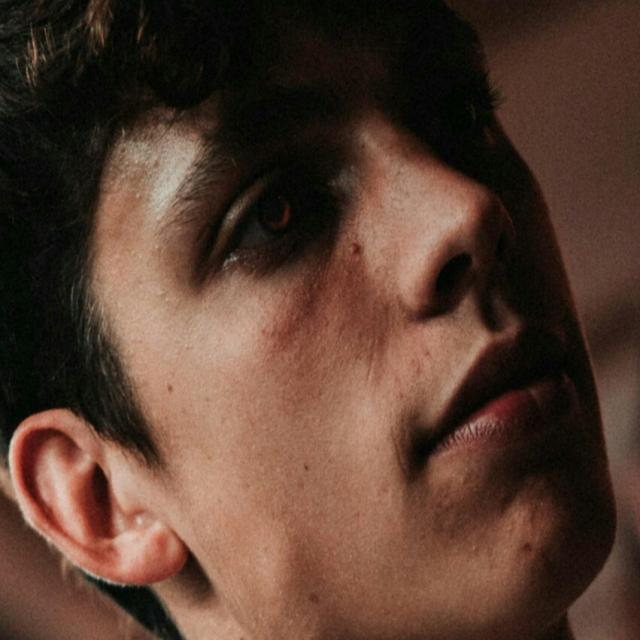front: (138, 88, 610, 608)
